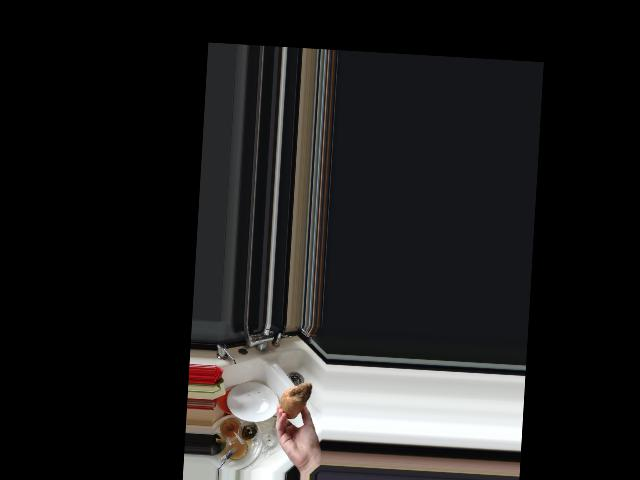sweet_potato: (278, 380, 315, 420)
